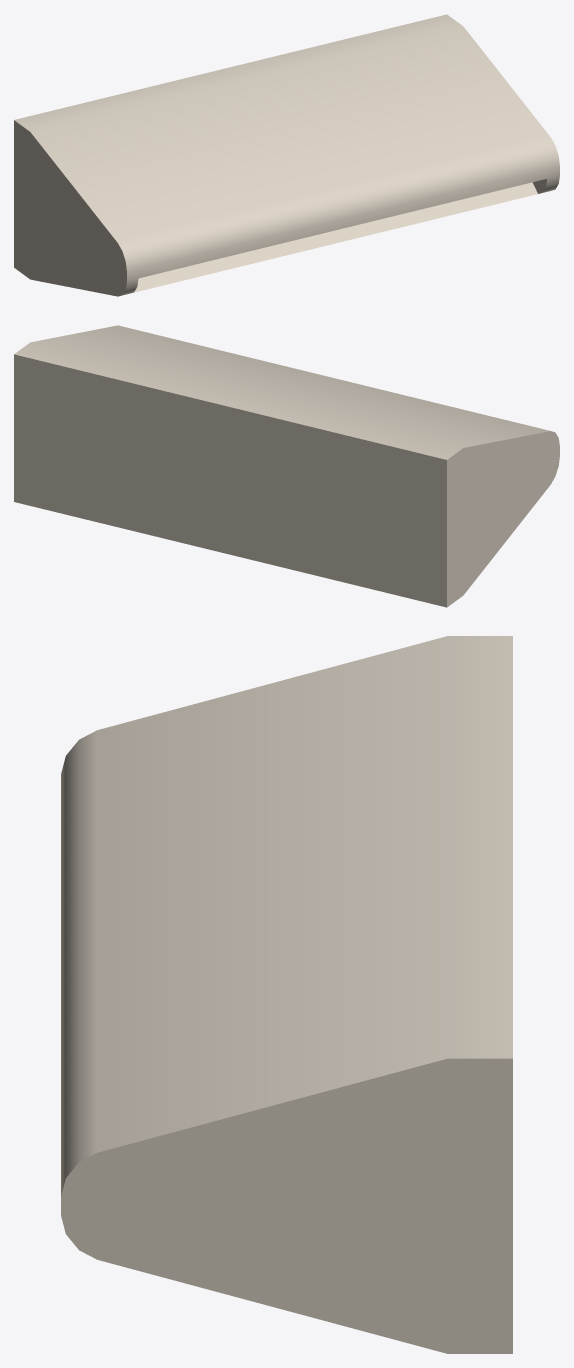
Rendered from aire 1.glb.
3 views of the same model, one above another, from view 1: azimuth 30°, elevation 25°; view 2: azimuth 150°, elevation 25°; view 3: azimuth 270°, elevation 25° (orthographic). The views are drawn at different scales.
Parts seen in each view (by area): view 1: Cube; view 2: Cube; view 3: Cube.
Boxes of the visible parts, left/top/right/bottom form: Cube: left=14, top=14, right=559, bottom=296; Cube: left=14, top=325, right=559, bottom=607; Cube: left=61, top=636, right=512, bottom=1353.
Size of the model in its own units: 6.14 by 2 by 2.77.
